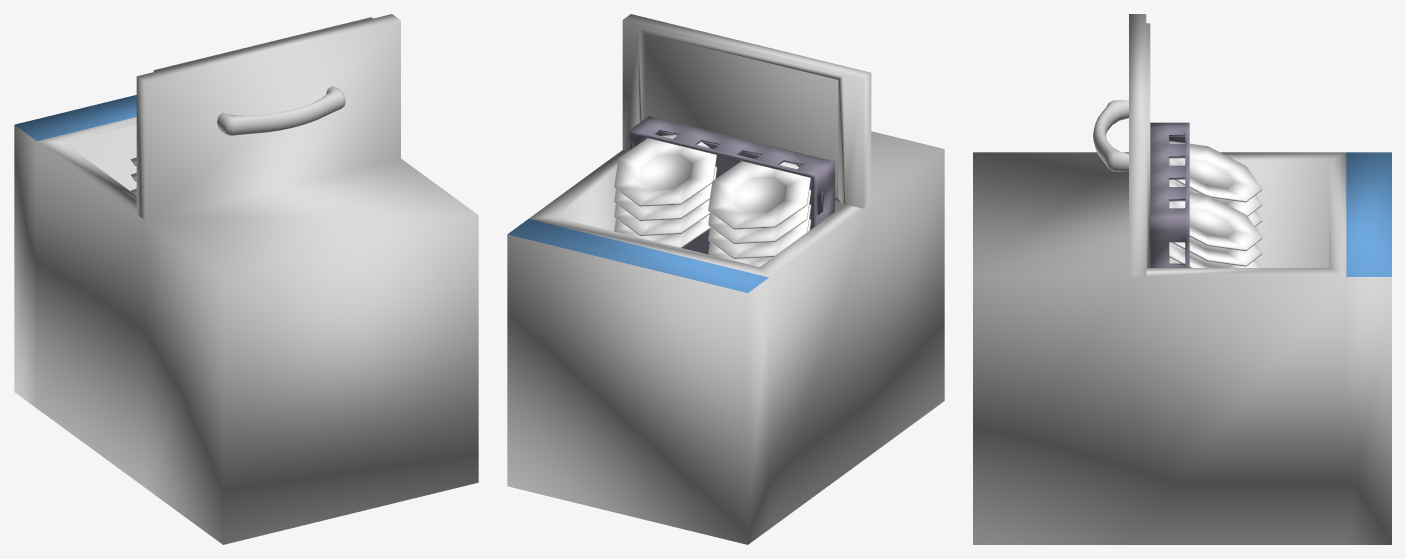
Rendered from МПМ.fbx.
3 views of the same model, side by side, from view 1: azimuth 30°, elevation 25°; view 2: azimuth 150°, elevation 25°; view 3: azimuth 270°, elevation 25° (orthographic). The views are drawn at different scales.
Parts seen in each view (by area): view 1: Circle; view 2: Circle; view 3: Circle.
Part boxes in pixels (left/top/right/bottom): Circle: left=14, top=14, right=478, bottom=544; Circle: left=507, top=14, right=944, bottom=544; Circle: left=973, top=14, right=1391, bottom=544.
Size of the model in its own units: 60 by 90.97 by 85.
